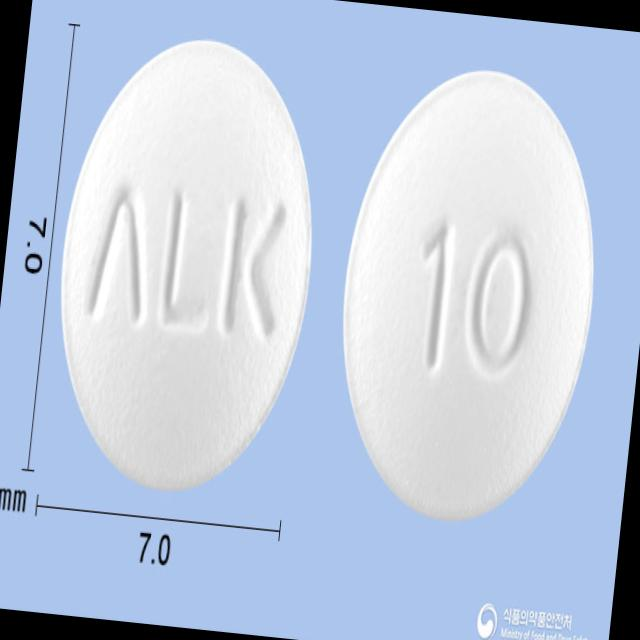Lenomid: (40, 23, 332, 503), (324, 55, 616, 532)
